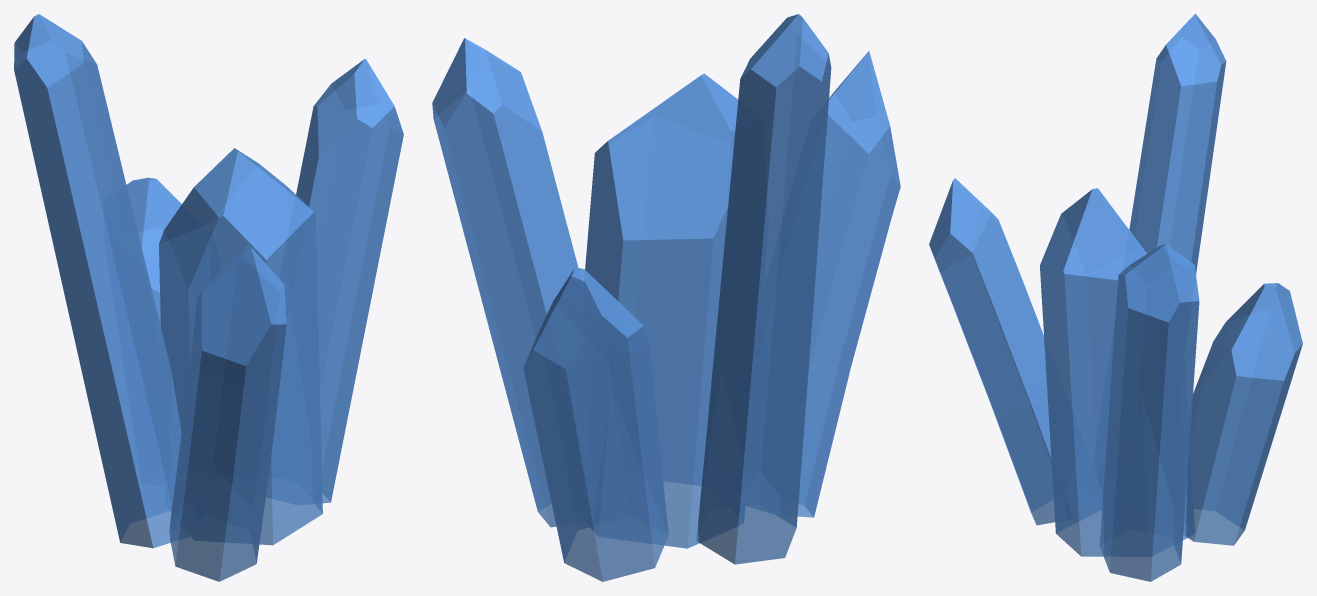
File: Crystals_l_05.fbx
The picture shows the model from 3 angles, left to right: view 1: azimuth 30°, elevation 25°; view 2: azimuth 150°, elevation 25°; view 3: azimuth 270°, elevation 25°; orthographic projection. The views are drawn at different scales.
Parts seen in each view (by area): view 1: Crystals_l_05; view 2: Crystals_l_05; view 3: Crystals_l_05.
Part boxes in pixels (x1=…): Crystals_l_05: x1=14, y1=14, x2=403, y2=581; Crystals_l_05: x1=432, y1=14, x2=900, y2=581; Crystals_l_05: x1=929, y1=14, x2=1302, y2=581.
Size of the model in its own units: 269 by 373 by 275.
